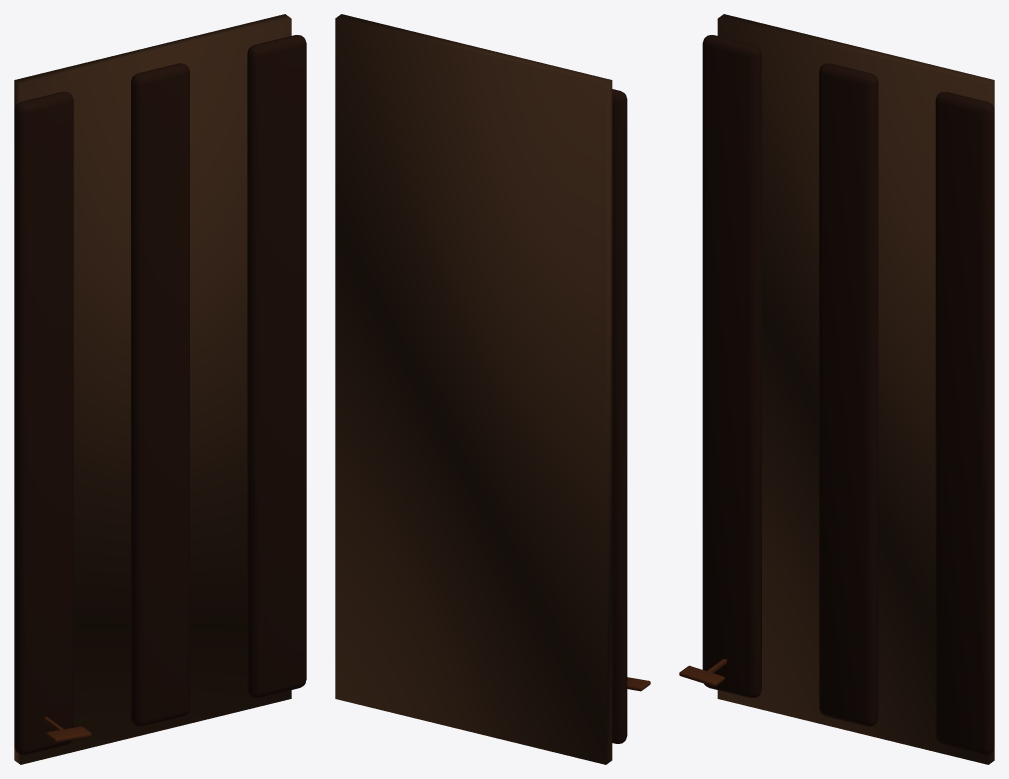
Rendered from field_structure_v3.obj.
3 renders of one model, left to right at view 1: azimuth 30°, elevation 25°; view 2: azimuth 150°, elevation 25°; view 3: azimuth 330°, elevation 25°, orthographic.
Parts seen in each view (by area): view 1: 5_12, 3, 1, 2, material; view 2: 5_12, 1; view 3: 5_12, 2, 3, 1, material.
Boxes of the visible parts, left/top/right/bottom form: 5_12: left=14, top=14, right=291, bottom=764; 3: left=247, top=35, right=306, bottom=697; 1: left=14, top=92, right=73, bottom=754; 2: left=131, top=63, right=189, bottom=726; material: left=43, top=717, right=91, bottom=742; 5_12: left=335, top=14, right=612, bottom=764; 1: left=612, top=89, right=627, bottom=743; 5_12: left=717, top=14, right=994, bottom=764; 2: left=819, top=63, right=878, bottom=726; 3: left=935, top=91, right=994, bottom=754; 1: left=702, top=35, right=761, bottom=697; material: left=679, top=658, right=726, bottom=686.
Bounding box in the file's own units: 5.35 × 12 × 1.38.
